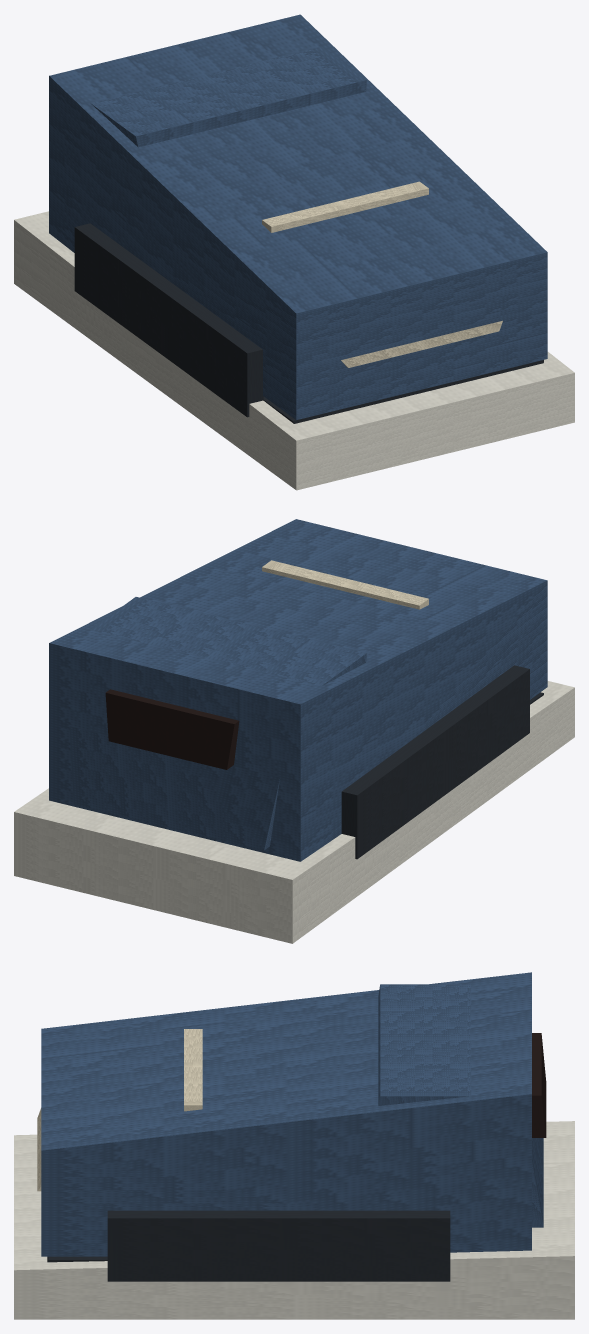
Rendered from marina_canvas.gltf.
3 views of the same model, one above another, from view 1: azimuth 30°, elevation 25°; view 2: azimuth 150°, elevation 25°; view 3: azimuth 270°, elevation 25° (orthographic).
Parts seen in each view (by area): view 1: Marina Canvas Low; view 2: Marina Canvas Low; view 3: Marina Canvas Low.
Boxes of the visible parts, x1,y1,x2,y2 form: Marina Canvas Low: [14, 14, 574, 490]; Marina Canvas Low: [14, 519, 574, 943]; Marina Canvas Low: [14, 972, 574, 1319].
Size of the model in its own units: 0.208 by 0.155 by 0.36.
Materials: 5 (5 with a texture image).
